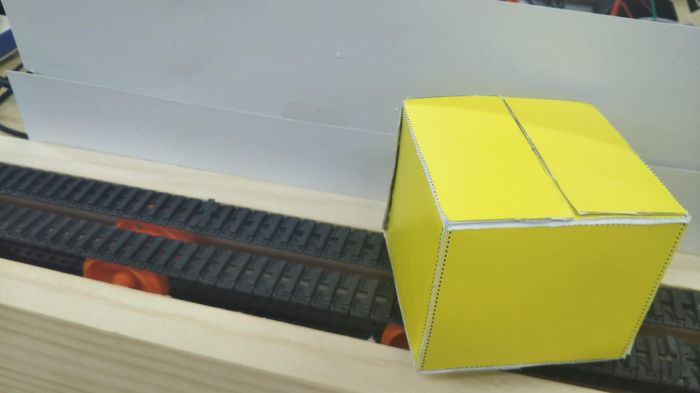box4: (379, 91, 690, 375)
